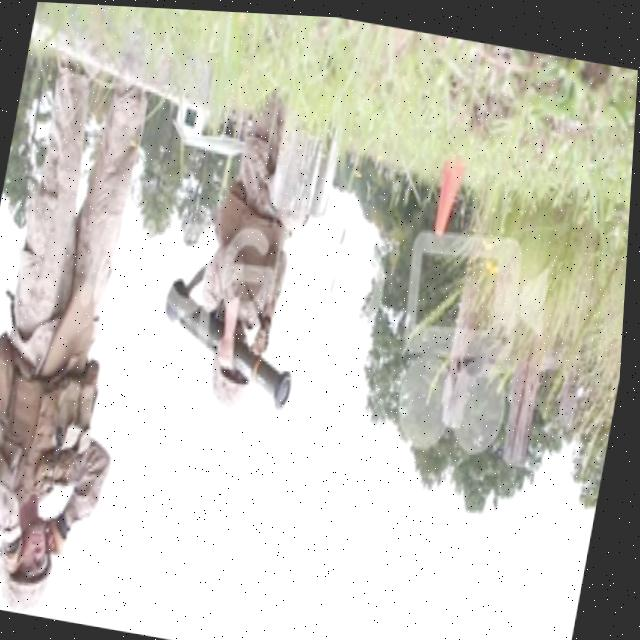rocket: (151, 258, 311, 416)
